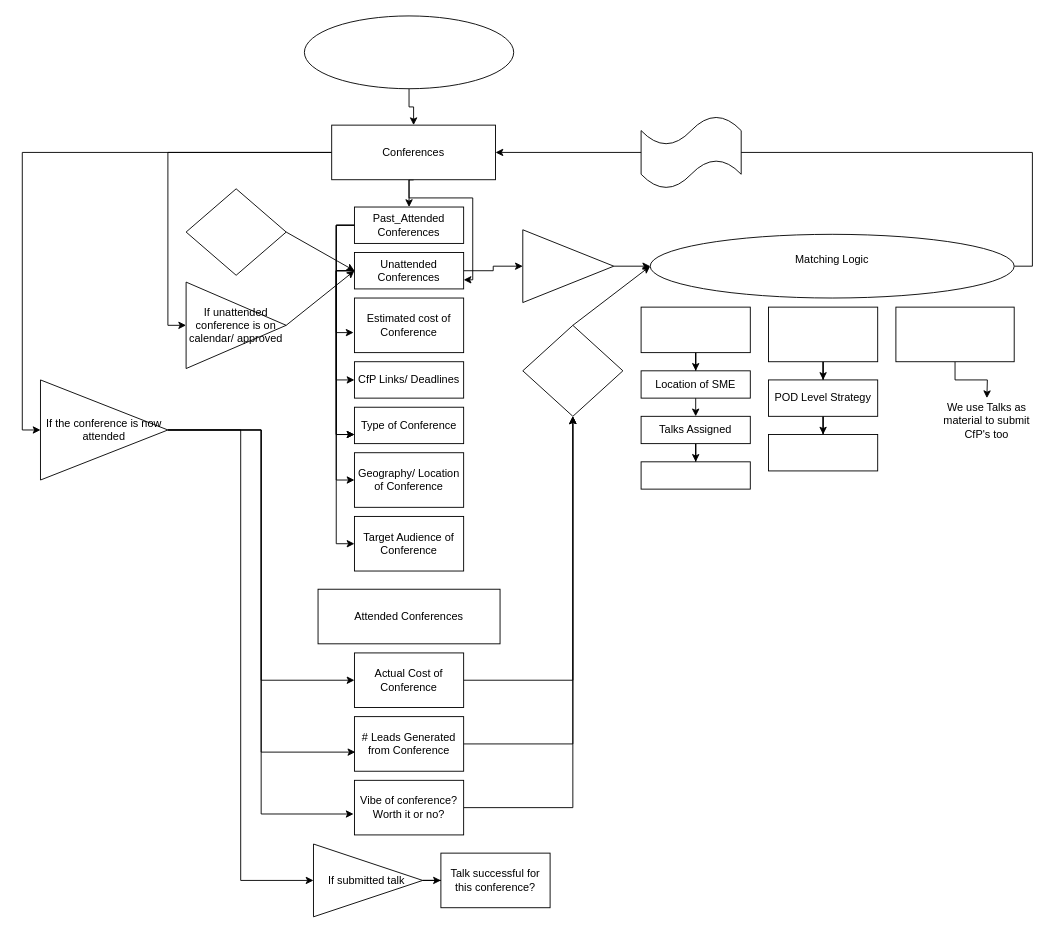
Image size: 1057x933. Some labels were removed from this diagram. The centre of each missing label's shape, as x and y in pixels:
"Data from Attended conferences" goes at point 572,370.
"If unattended" goes at point 568,266.
"Manual Form Input" goes at point 235,231.
"Pillar Assignment" goes at point 695,475.
"Pillar/ POD" goes at point 823,334.
"POD Messaging/ Positioning" goes at point 823,452.
"Subject Matter Expert" goes at point 695,329.
"Talks" goes at point 954,334.
"Updates X Conference" goes at point 690,152.
"Web Scraper & Filter Logic" goes at point 408,52.
